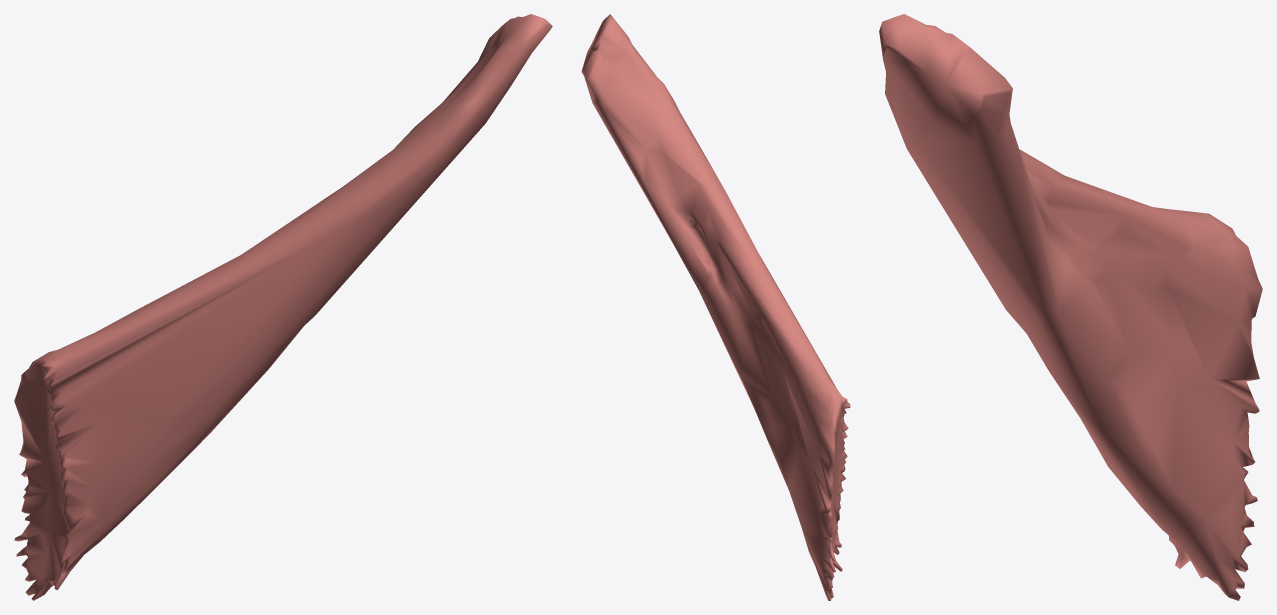
The picture shows the model from 3 angles, left to right: view 1: azimuth 30°, elevation 25°; view 2: azimuth 150°, elevation 25°; view 3: azimuth 270°, elevation 25°; orthographic projection. The views are drawn at different scales.
Visible parts, largest first — view 1: ZA_7d1aed4604fdbbc5; view 2: ZA_7d1aed4604fdbbc5; view 3: ZA_7d1aed4604fdbbc5.
Part boxes in pixels (<box>): ZA_7d1aed4604fdbbc5: <box>14,14,552,600</box>; ZA_7d1aed4604fdbbc5: <box>581,14,850,600</box>; ZA_7d1aed4604fdbbc5: <box>879,14,1262,600</box>.
Size of the model in its own units: 0.0801 by 0.1044 by 0.0413.
